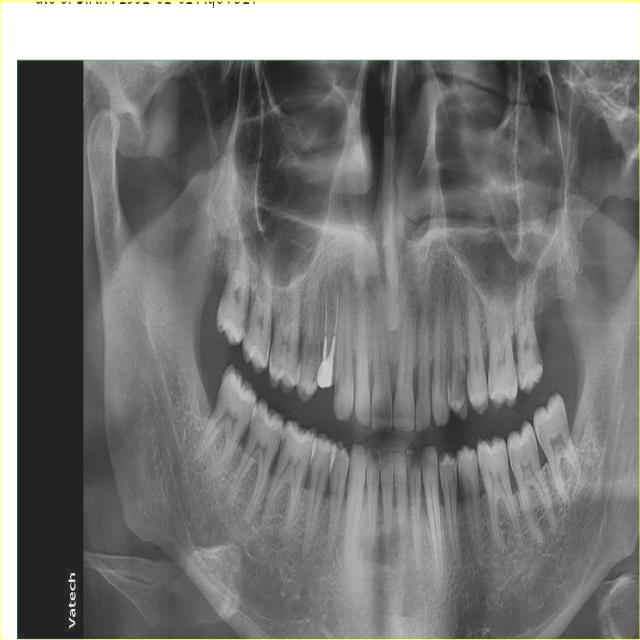Caries: (457, 368, 468, 414), (531, 341, 543, 366), (280, 432, 287, 454), (460, 479, 467, 500), (245, 311, 251, 333), (242, 313, 248, 334), (335, 382, 338, 400)
Root Canal Treatment: (334, 292, 338, 333), (325, 292, 327, 333)
